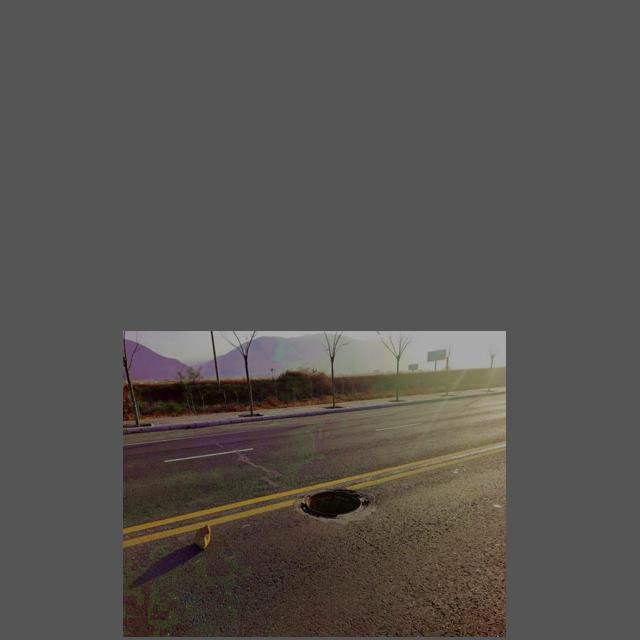lose: (291, 485, 386, 525)
